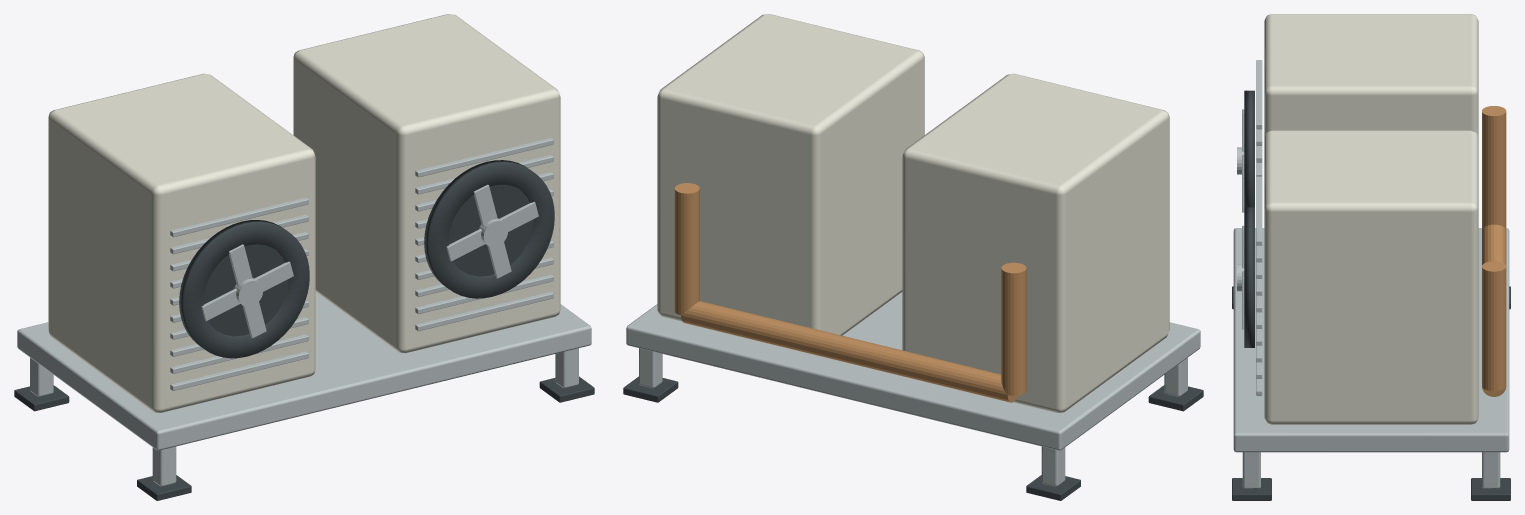
Rendered from broadcast-tower-and-relay-station-broadcast-tower-and--3b47306e__30278.glb.
The picture shows the model from 3 angles, left to right: view 1: azimuth 30°, elevation 25°; view 2: azimuth 150°, elevation 25°; view 3: azimuth 270°, elevation 25°; orthographic projection. The views are drawn at different scales.
Visible parts, largest first — view 1: broadcast-tower-and-relay-station-cooling-skid; view 2: broadcast-tower-and-relay-station-cooling-skid; view 3: broadcast-tower-and-relay-station-cooling-skid.
Part boxes in pixels (<box>): broadcast-tower-and-relay-station-cooling-skid: <box>14,14,594,500</box>; broadcast-tower-and-relay-station-cooling-skid: <box>623,14,1203,500</box>; broadcast-tower-and-relay-station-cooling-skid: <box>1232,14,1510,500</box>.
Bounding box in the file's own units: 1.61 × 1.04 × 0.9101.
